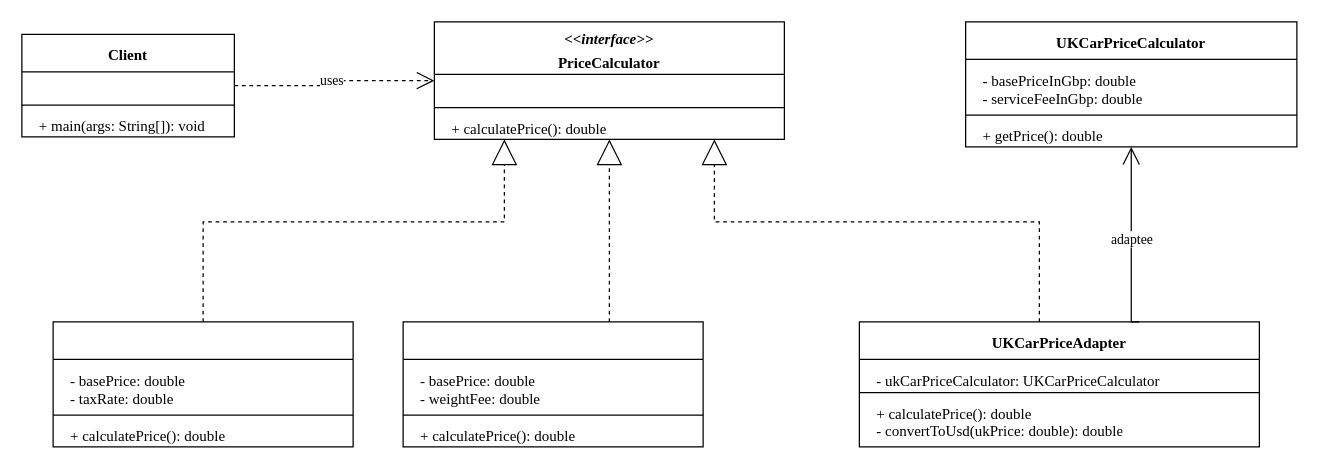
The diagram is 1319 pixels wide and 473 high, and some of its shapes have lost their labels. The box of each missing label's shape, as (x1, y1, x2, y2) in pixels:
CarPriceCalculator: (52, 321, 353, 447)
TruckPriceCalculator: (402, 321, 703, 447)
